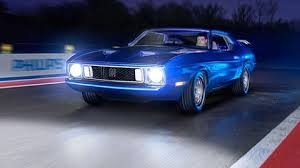headlight: (65, 58, 170, 86)
